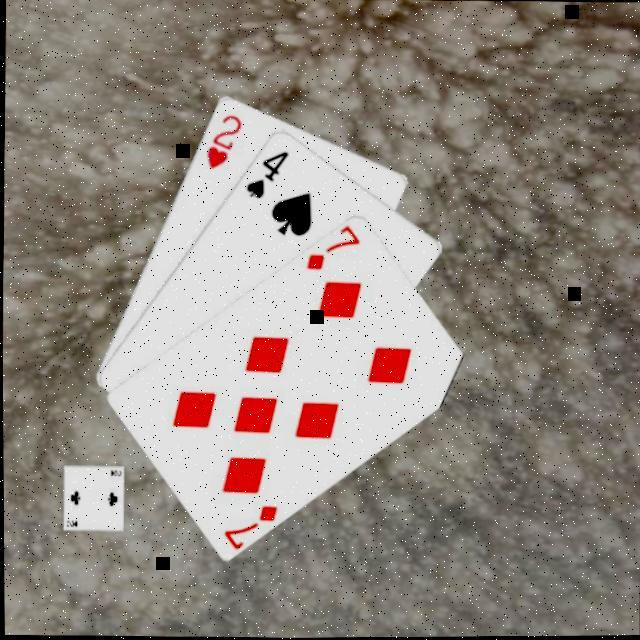2H: (200, 111, 243, 173)
4S: (240, 147, 290, 202)
7D: (300, 224, 362, 274), (218, 501, 279, 551)
